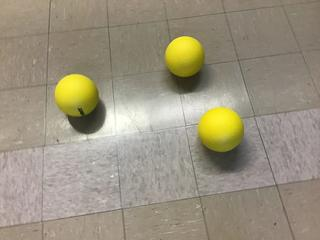power_cell: (196, 105, 247, 157), (53, 70, 102, 120), (162, 34, 209, 81)
